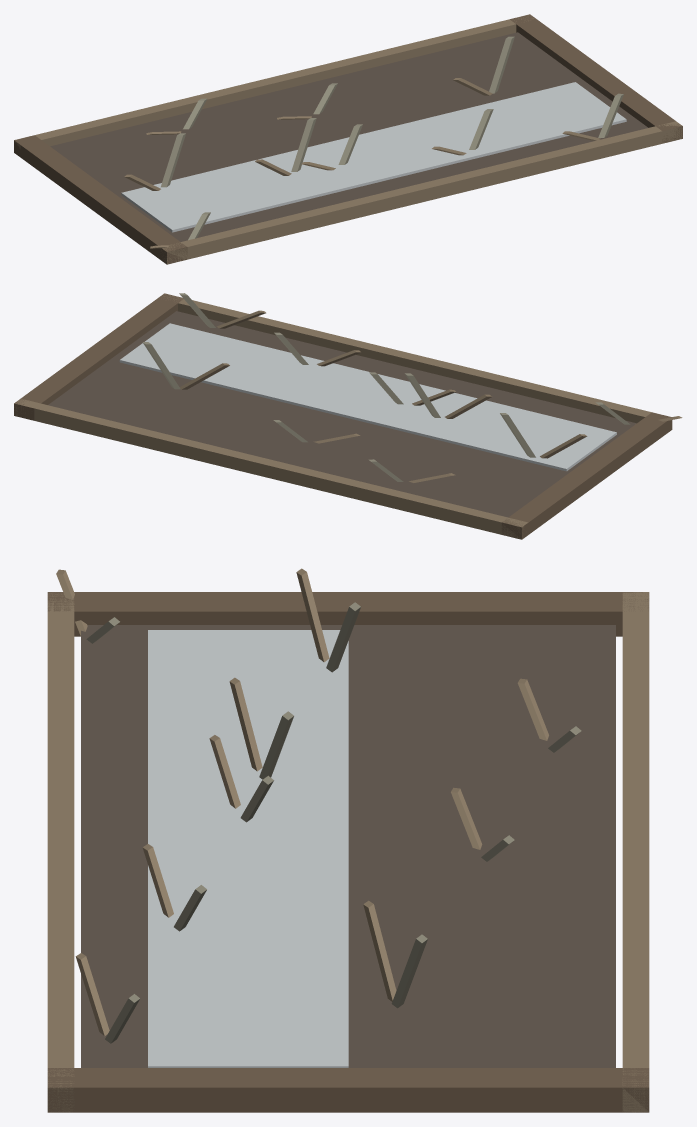
The model's file is herb_bed.glb.
3 views of the same model, one above another, from view 1: azimuth 30°, elevation 25°; view 2: azimuth 150°, elevation 25°; view 3: azimuth 270°, elevation 25° (orthographic). The views are drawn at different scales.
Parts seen in each view (by area): view 1: herb_bed; view 2: herb_bed; view 3: herb_bed.
Boxes of the visible parts, x1=… form: herb_bed: x1=14, y1=14, x2=682, y2=264; herb_bed: x1=14, y1=293, x2=682, y2=539; herb_bed: x1=47, y1=568, x2=649, y2=1112.
Bounding box in the file's own units: 3.84 × 0.35 × 1.92.
